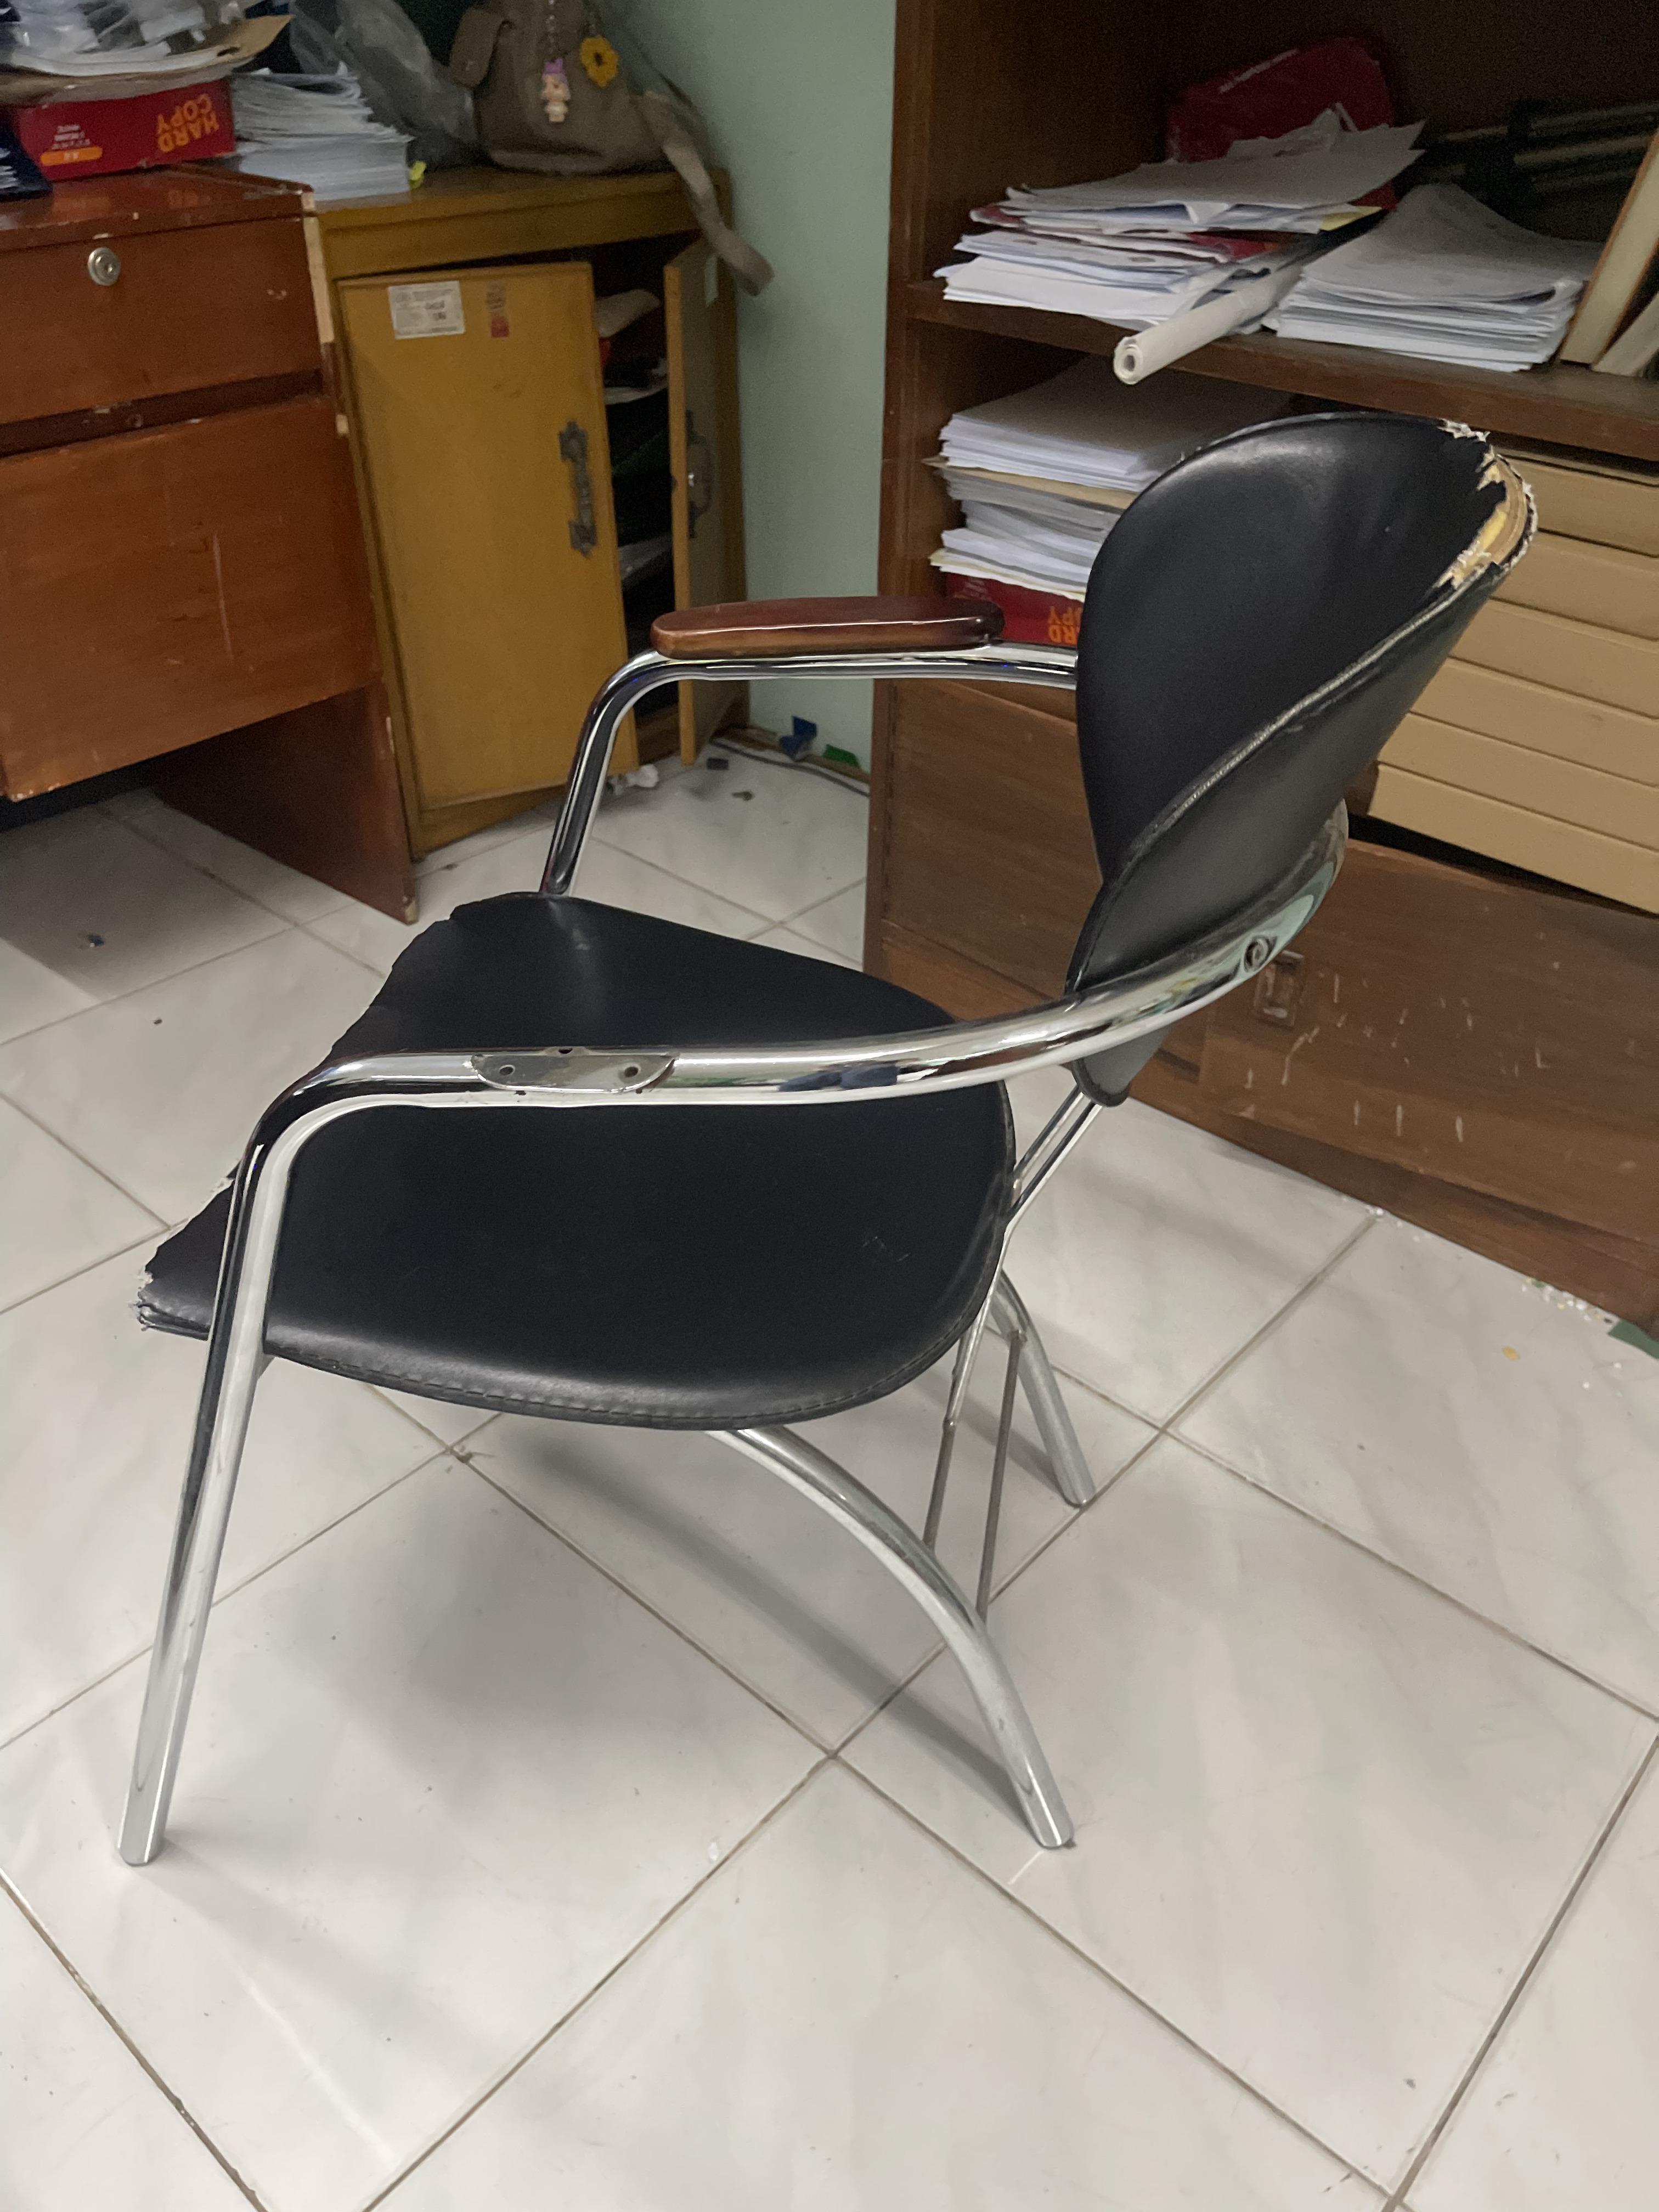chair1: (115, 409, 1535, 1881)
